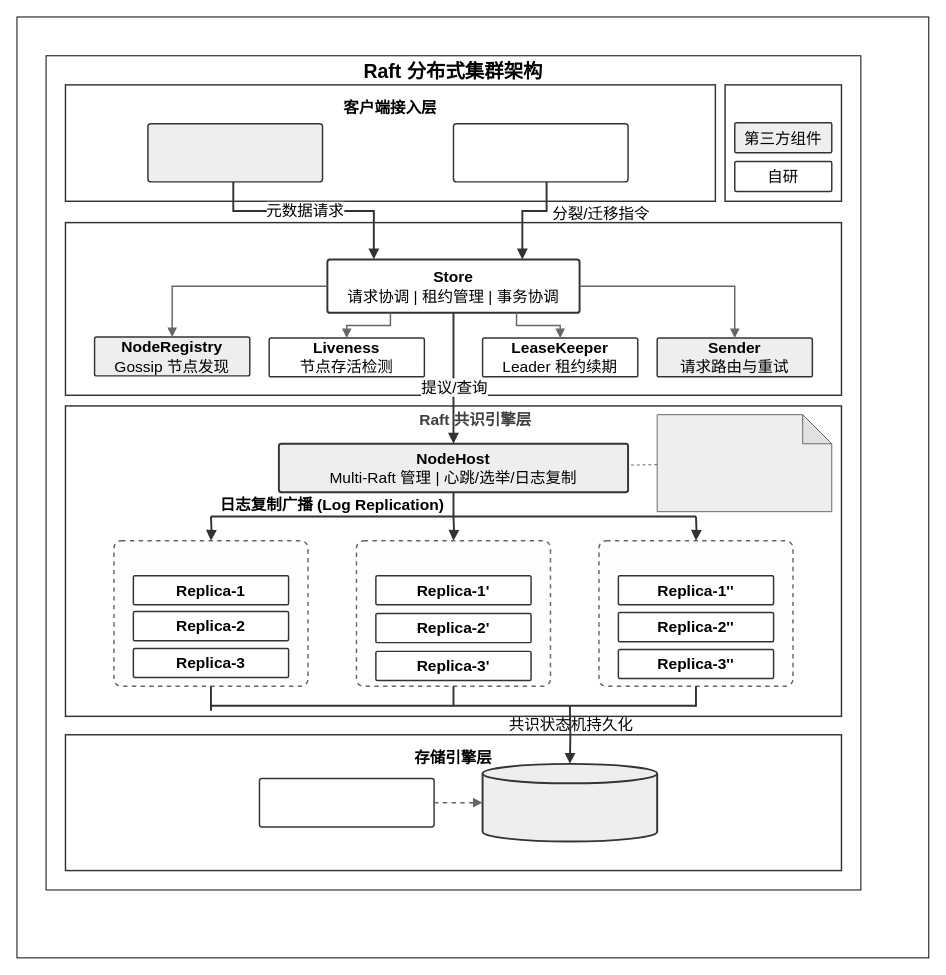
Image size: 946x975. Some labels were removed from this diagram. The shapes that lost their labels are listed below. From the top down, each one's box as (x1, y1, x2, y2) in pixels, then its label:
(147, 123, 323, 182): DistributedCache 一致性哈希和 路由请求转发
(452, 123, 628, 182): PlacementDriver Range 分裂决策和副本迁移调度
(724, 84, 842, 202): 图例
(64, 221, 842, 396): 协调服务层（Store）
(656, 414, 832, 512): Dragonboat 库： Multi-Group Raft 架构 快照与恢复 自动化 Leader 选举 预写日志 (WAL) 压缩
(113, 540, 308, 687): Raft Group #1 (Range-1)
(355, 540, 551, 687): Raft Group #2 (Range-2)
(598, 540, 793, 687): Raft Group #N (Range-N)
(258, 777, 434, 827): RangeMap 键空间分片逻辑映射
(481, 762, 658, 842): PebbleDB
